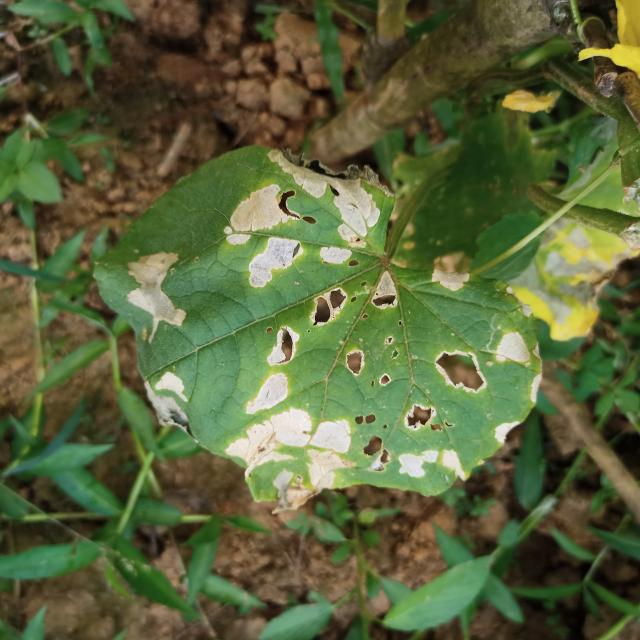disease_cucumber: (117, 151, 533, 493)
